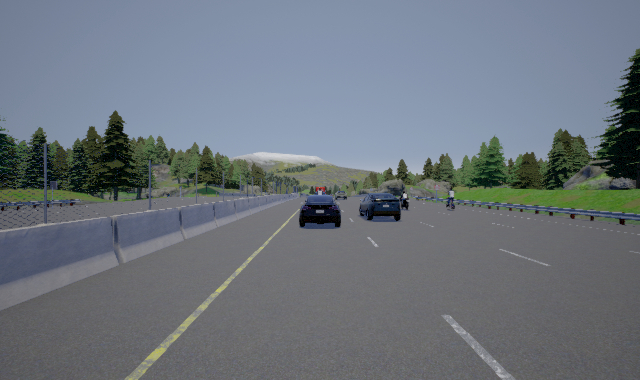bike: (444, 187, 459, 213)
vehicle: (298, 193, 342, 228), (359, 193, 403, 221)
